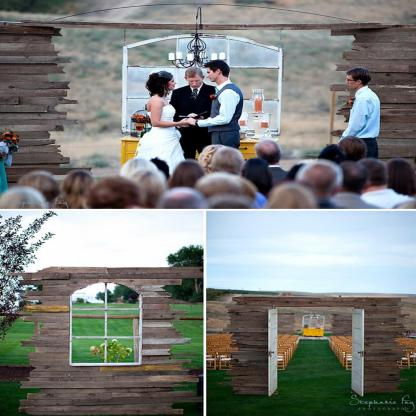face: (187, 76, 203, 90), (166, 77, 178, 91), (346, 76, 358, 90), (207, 68, 217, 83)
